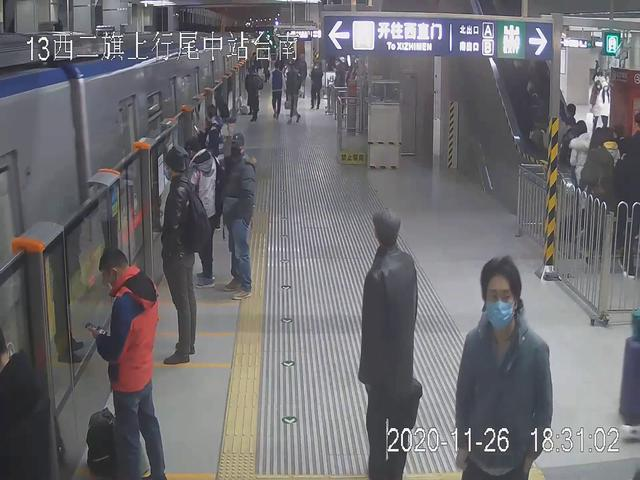person: (459, 255, 554, 480), (355, 204, 427, 480), (96, 249, 174, 480), (157, 141, 199, 366), (224, 127, 260, 302), (183, 136, 223, 292)
